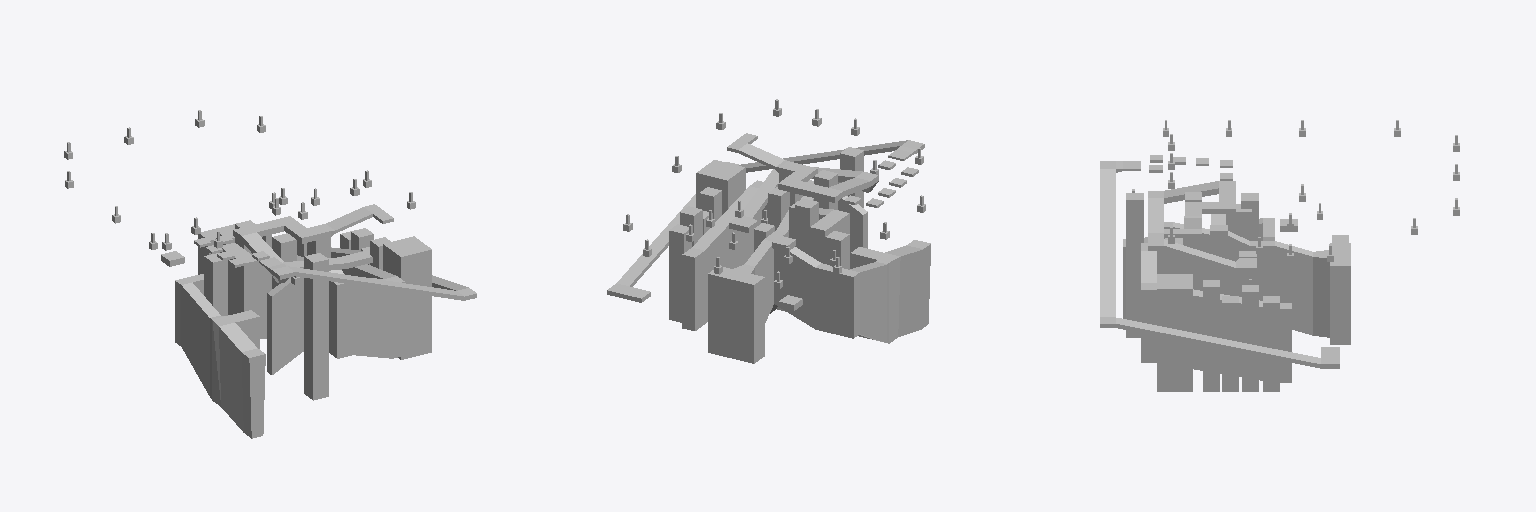
The model's file is sandbox1.obj.
3 renders of one model, left to right at view 1: azimuth 30°, elevation 25°; view 2: azimuth 150°, elevation 25°; view 3: azimuth 270°, elevation 25°, orthographic.
Size of the model in its own units: 30.46 by 23.37 by 36.21.